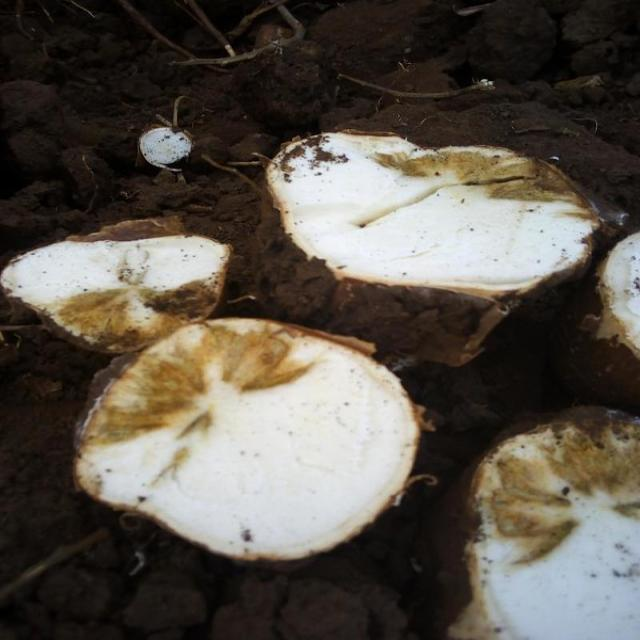cassava leaf: (72, 314, 422, 562), (262, 127, 600, 368), (444, 403, 638, 638), (1, 215, 231, 354), (552, 228, 638, 408)
